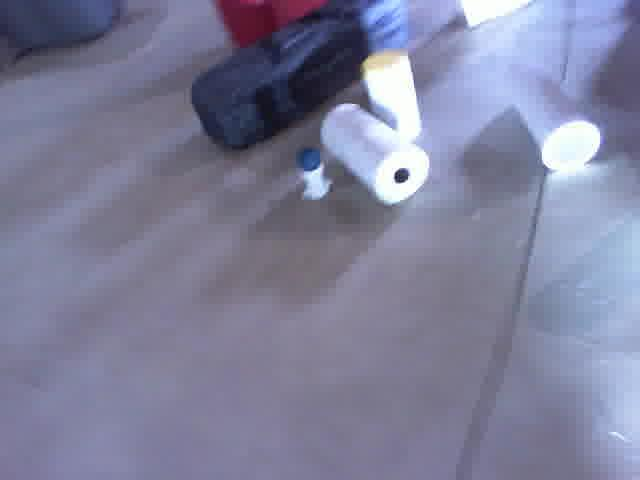coral: (317, 103, 430, 207), (511, 75, 603, 172)
